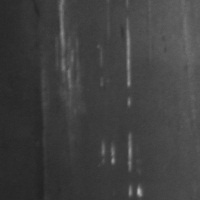scratches: (98, 129, 146, 199), (53, 1, 83, 87), (118, 16, 135, 108)
